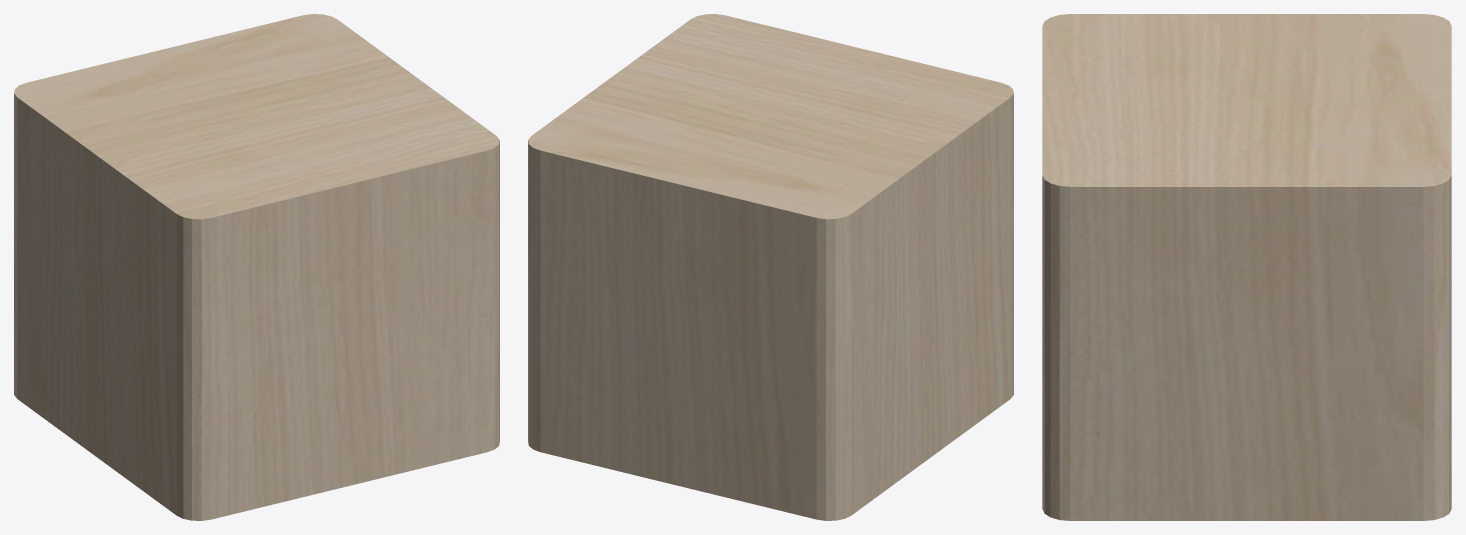
File: whitecapstone.glb
The picture shows the model from 3 angles, left to right: view 1: azimuth 30°, elevation 25°; view 2: azimuth 150°, elevation 25°; view 3: azimuth 270°, elevation 25°; orthographic projection. The views are drawn at different scales.
Parts seen in each view (by area): view 1: Cube.004; view 2: Cube.004; view 3: Cube.004.
Boxes of the visible parts, x1,y1,x2,y2 form: Cube.004: (14, 14, 499, 520); Cube.004: (528, 14, 1013, 520); Cube.004: (1042, 14, 1451, 520).
Bounding box in the file's own units: 2.79 × 2.51 × 2.79.
1 material, 1 textured.
